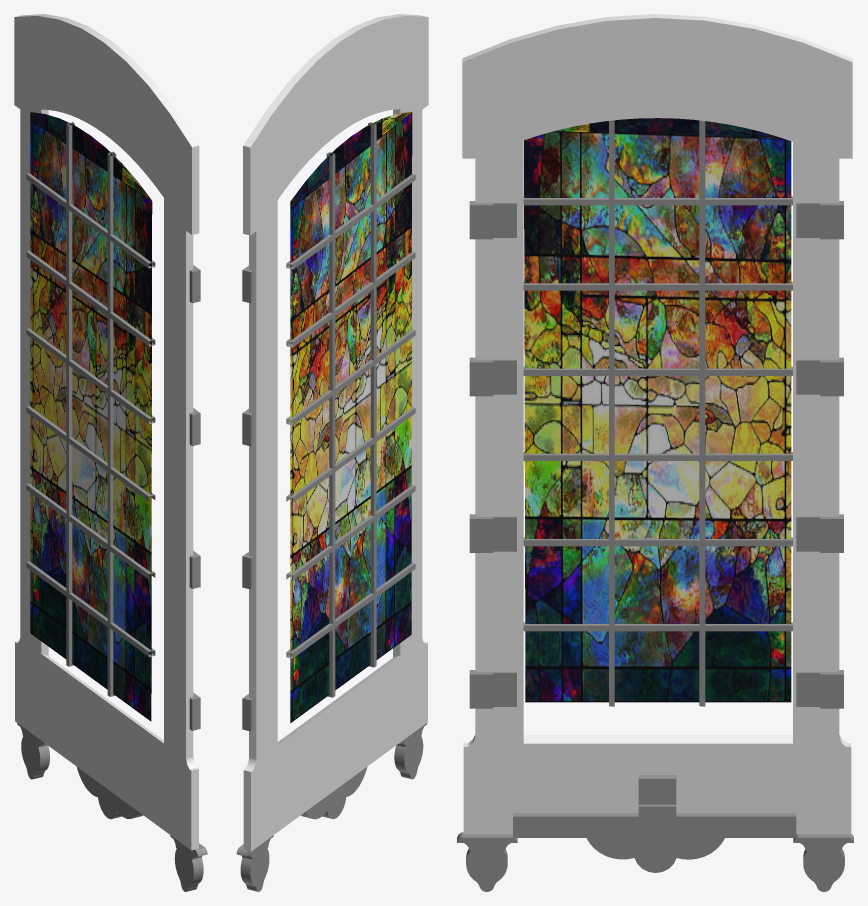
File: raam_blender_test.gltf
The picture shows the model from 3 angles, left to right: view 1: azimuth 30°, elevation 25°; view 2: azimuth 150°, elevation 25°; view 3: azimuth 270°, elevation 25°; orthographic projection. The views are drawn at different scales.
Parts seen in each view (by area): view 1: detail_raam; view 2: detail_raam; view 3: detail_raam.
Part boxes in pixels (x1=…): detail_raam: x1=14, y1=14, x2=207, y2=891; detail_raam: x1=236, y1=14, x2=428, y2=891; detail_raam: x1=457, y1=14, x2=853, y2=891.
Size of the model in its own units: 27.07 by 617 by 255.
3 materials, 1 textured.
